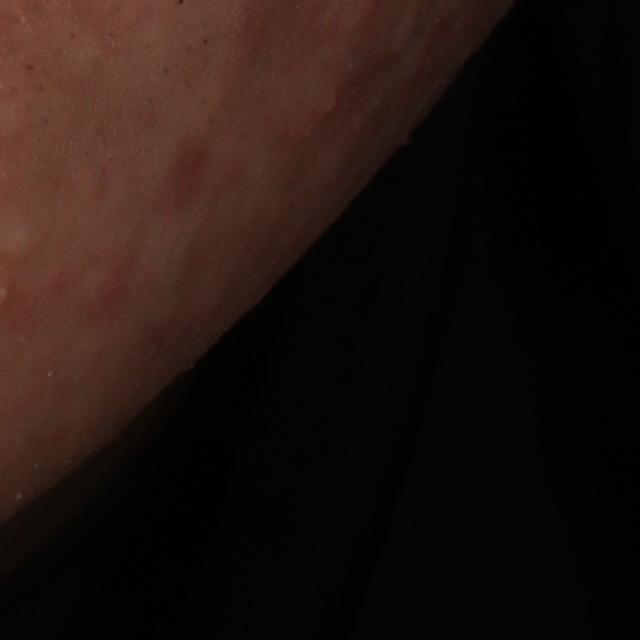papule: (317, 85, 350, 123)
